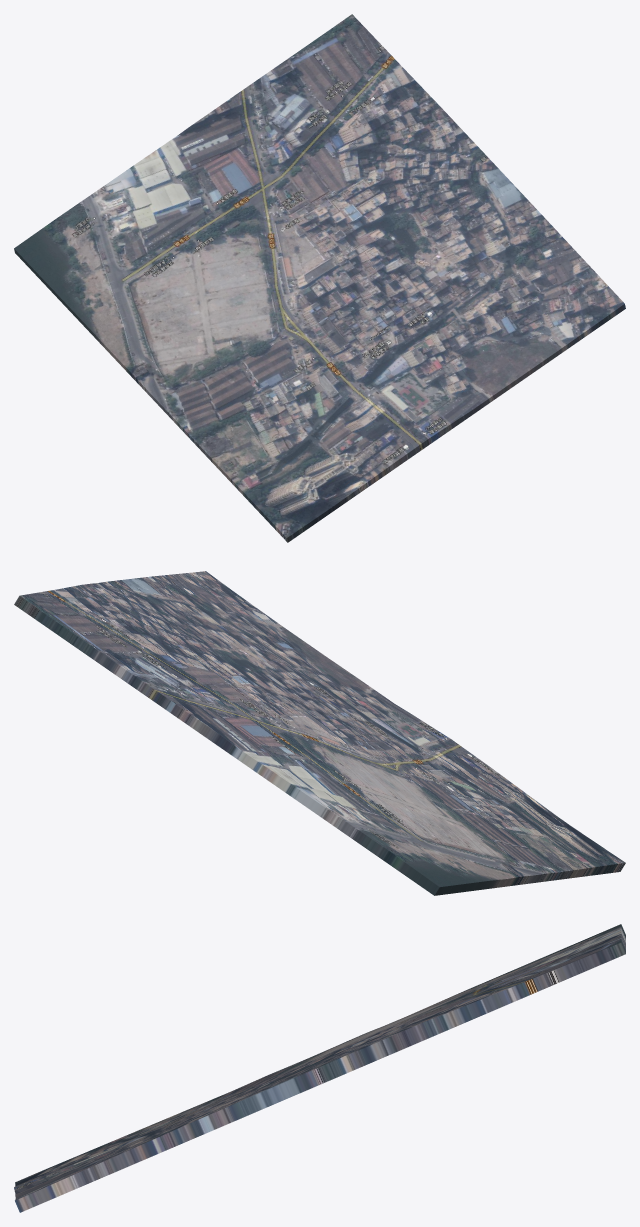
The picture shows the model from 3 angles, top to bottom: view 1: azimuth 30°, elevation 25°; view 2: azimuth 150°, elevation 25°; view 3: azimuth 270°, elevation 25°; orthographic projection. The views are drawn at different scales.
Parts seen in each view (by area): view 1: 0_8_0; view 2: 0_8_0; view 3: 0_8_0.
Boxes of the visible parts, x1=… form: 0_8_0: x1=14, y1=14, x2=625, y2=542; 0_8_0: x1=14, y1=571, x2=625, y2=895; 0_8_0: x1=14, y1=924, x2=625, y2=1212.
Bounding box in the file's own units: 596 × 437 × 547.
Materials: 1 (1 with a texture image).
